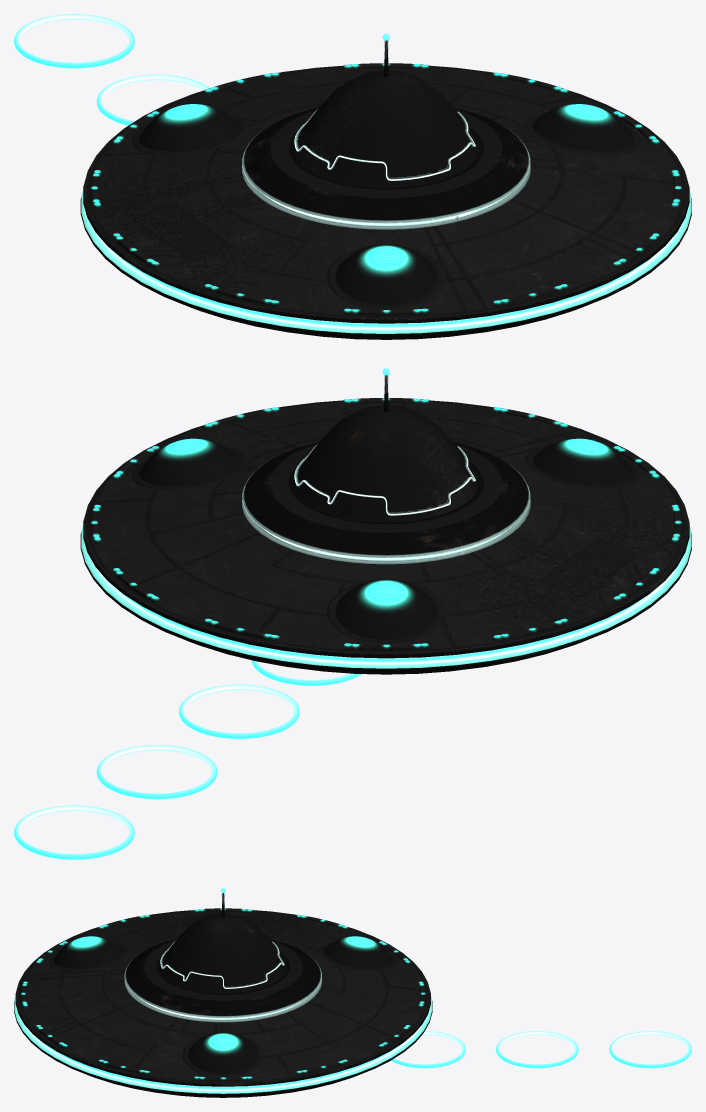
The model's file is ufo.glb.
The picture shows the model from 3 angles, top to bottom: view 1: azimuth 30°, elevation 25°; view 2: azimuth 150°, elevation 25°; view 3: azimuth 270°, elevation 25°; orthographic projection. The views are drawn at different scales.
Parts seen in each view (by area): view 1: Part_001, Part_003, Part_002, Part_004; view 2: Part_001, Part_003, Part_002, Part_004; view 3: Part_003, Part_001, Part_004, Part_002.
Part boxes in pixels (x1,y1,x2,y2): Part_001: [80, 33, 538, 339]; Part_003: [369, 33, 691, 322]; Part_002: [14, 17, 303, 203]; Part_004: [45, 14, 521, 111]; Part_001: [307, 368, 691, 675]; Part_003: [80, 368, 533, 563]; Part_002: [44, 563, 533, 859]; Part_004: [14, 528, 306, 856]; Part_003: [14, 888, 331, 1097]; Part_001: [14, 888, 331, 1005]; Part_004: [332, 982, 691, 1083]; Part_002: [332, 922, 691, 1049].
Size of the model in its own units: 0.9733 by 0.4179 by 1.57.
Materials: 2 (1 with a texture image).
